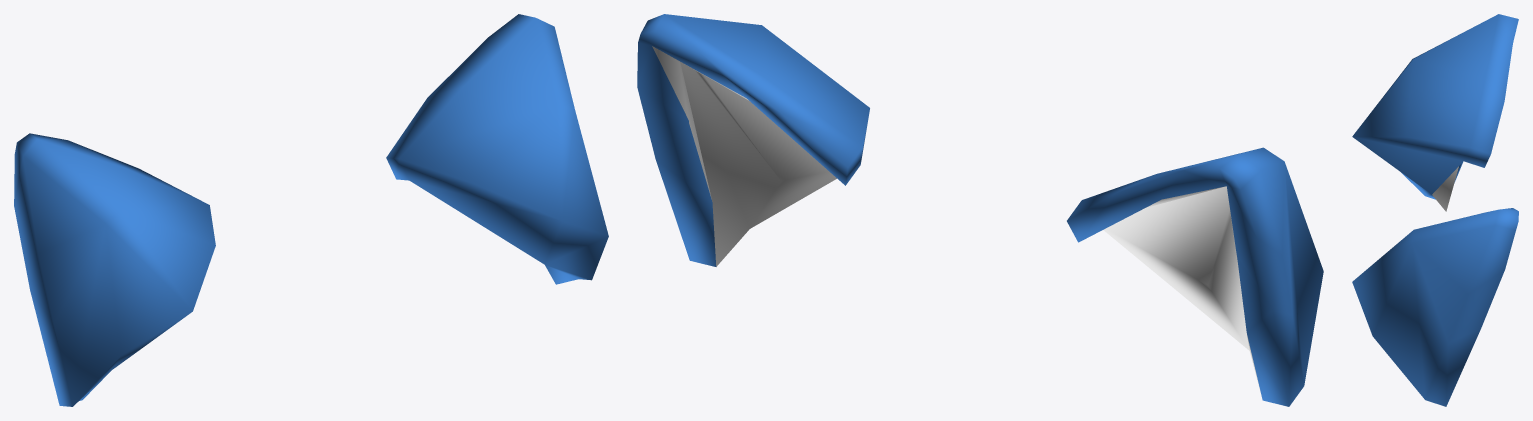
File: Gleb_catEars.fbx
3 renders of one model, left to right at view 1: azimuth 30°, elevation 25°; view 2: azimuth 150°, elevation 25°; view 3: azimuth 270°, elevation 25°, orthographic. The views are drawn at different scales.
Visible parts, largest first — view 1: Plane; view 2: Plane; view 3: Plane.
Part boxes in pixels (left/top/right/bottom): Plane: left=14, top=14, right=608, bottom=406; Plane: left=637, top=14, right=1323, bottom=406; Plane: left=1352, top=14, right=1518, bottom=406.
Size of the model in its own units: 74.7 by 31.92 by 24.97.
